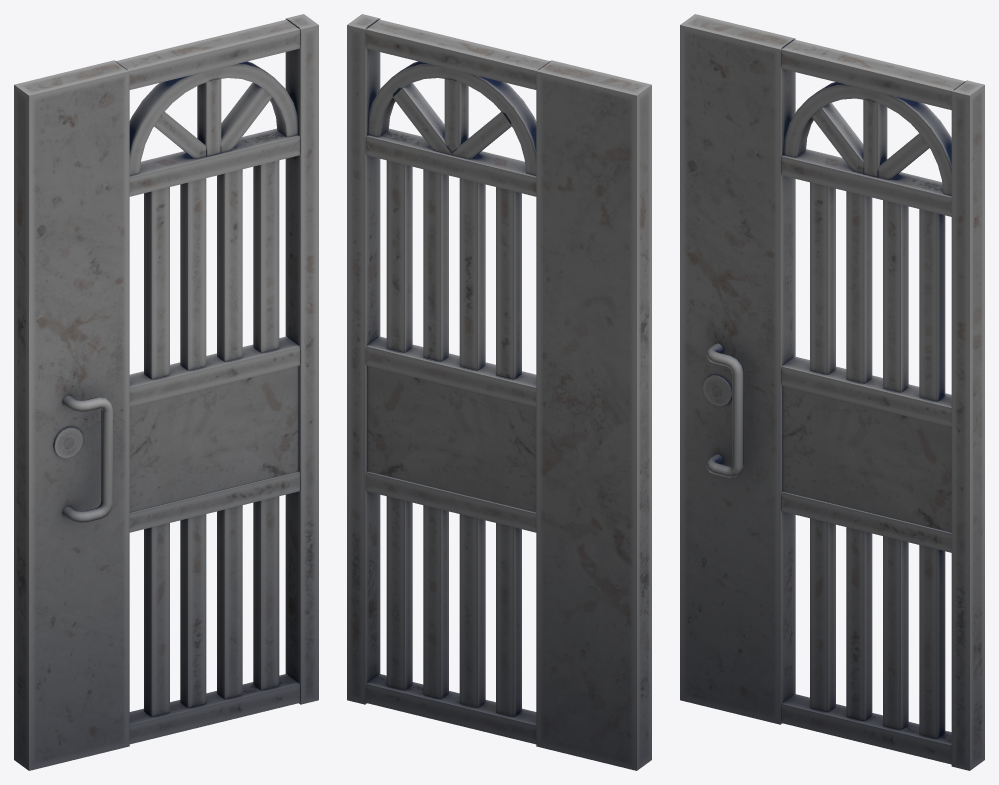
The model's file is IronDoor_v2.fbx.
The picture shows the model from 3 angles, left to right: view 1: azimuth 30°, elevation 25°; view 2: azimuth 150°, elevation 25°; view 3: azimuth 330°, elevation 25°; orthographic projection.
Parts seen in each view (by area): view 1: IronDoor_v2; view 2: IronDoor_v2; view 3: IronDoor_v2.
Part boxes in pixels (x1=…): IronDoor_v2: x1=14, y1=14, x2=318, y2=770; IronDoor_v2: x1=347, y1=14, x2=651, y2=770; IronDoor_v2: x1=680, y1=14, x2=984, y2=770.
Size of the model in its own units: 99.21 by 221 by 16.69.
